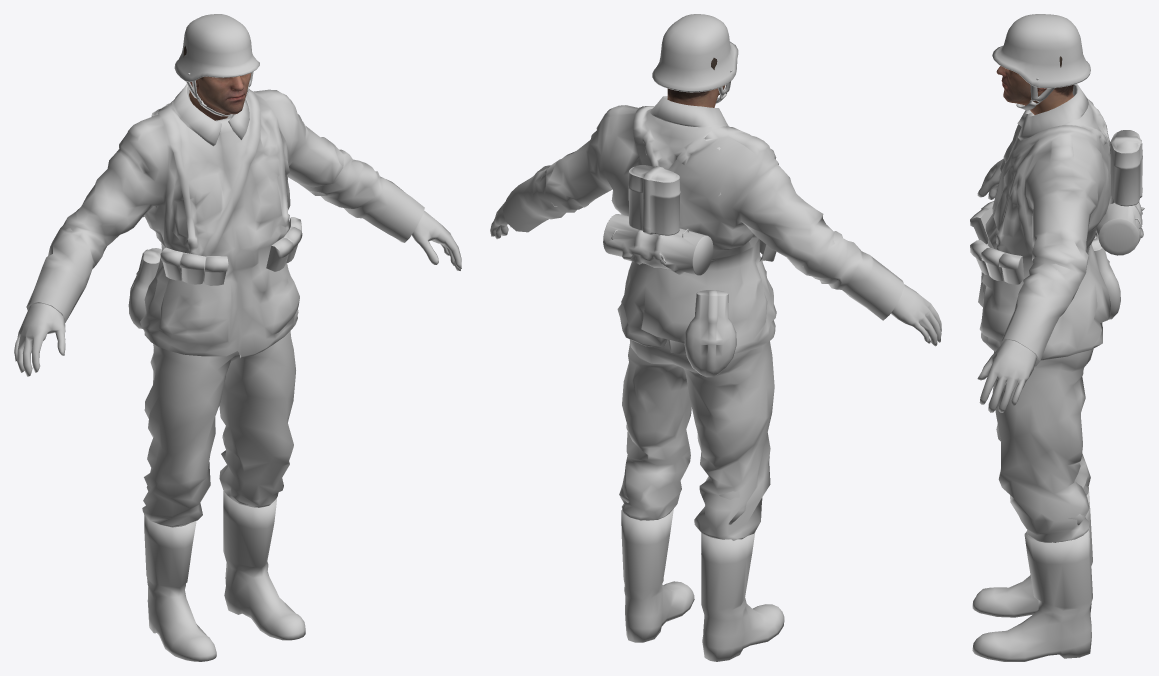
Rendered from Grey Infranty.fbx.
3 views of the same model, side by side, from view 1: azimuth 30°, elevation 25°; view 2: azimuth 150°, elevation 25°; view 3: azimuth 270°, elevation 25° (orthographic).
Visible parts, largest first — view 1: Torso, Pants, Shoe_left, Shoe_right, Helmet, Front gear, Head, Back gear; view 2: Torso, Pants, Back gear, Shoe_right, Shoe_left, Helmet, Head; view 3: Torso, Pants, Shoe_left, Helmet, Back gear, Shoe_right, Front gear, Head.
Part boxes in pixels (bbox=[...]): Torso: bbox=[14, 84, 461, 376]; Pants: bbox=[142, 331, 295, 527]; Shoe_left: bbox=[223, 491, 305, 640]; Shoe_right: bbox=[144, 514, 216, 661]; Helmet: bbox=[174, 14, 259, 116]; Front gear: bbox=[160, 217, 302, 285]; Head: bbox=[183, 46, 251, 120]; Back gear: bbox=[128, 108, 161, 328]; Torso: bbox=[490, 96, 941, 354]; Pants: bbox=[620, 339, 774, 540]; Back gear: bbox=[603, 165, 736, 377]; Shoe_right: bbox=[701, 532, 784, 661]; Shoe_left: bbox=[621, 509, 694, 642]; Helmet: bbox=[652, 14, 738, 103]; Head: bbox=[667, 58, 725, 107]; Torso: bbox=[977, 84, 1110, 412]; Pants: bbox=[992, 348, 1093, 542]; Shoe_left: bbox=[972, 528, 1092, 661]; Helmet: bbox=[992, 14, 1090, 110]; Back gear: bbox=[1091, 130, 1144, 319]; Shoe_right: bbox=[972, 491, 1092, 617]; Front gear: bbox=[970, 201, 1024, 284]; Head: bbox=[996, 56, 1073, 114].
Size of the model in its own units: 135 by 178 by 46.08.
